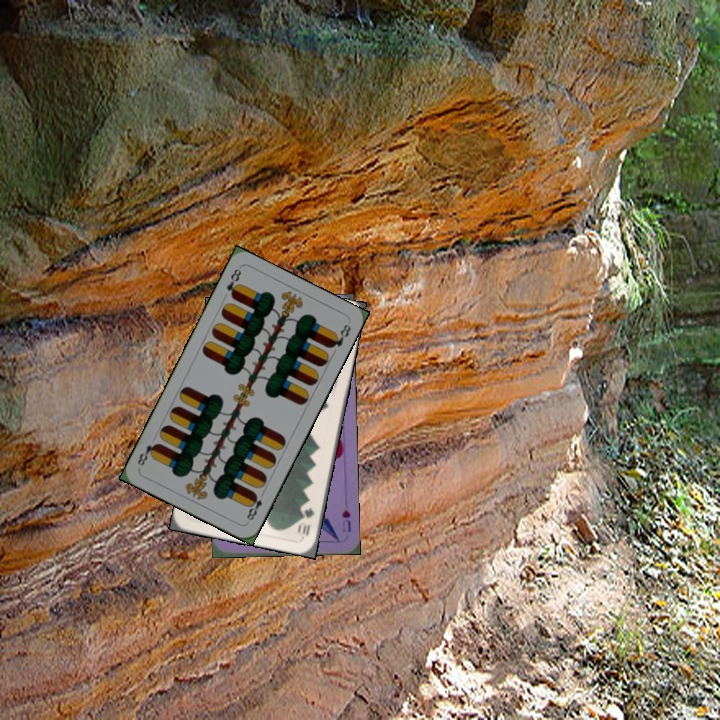E8: (243, 487, 267, 523), (222, 264, 244, 301)
G10: (295, 503, 317, 539)
HU: (338, 506, 353, 535)
